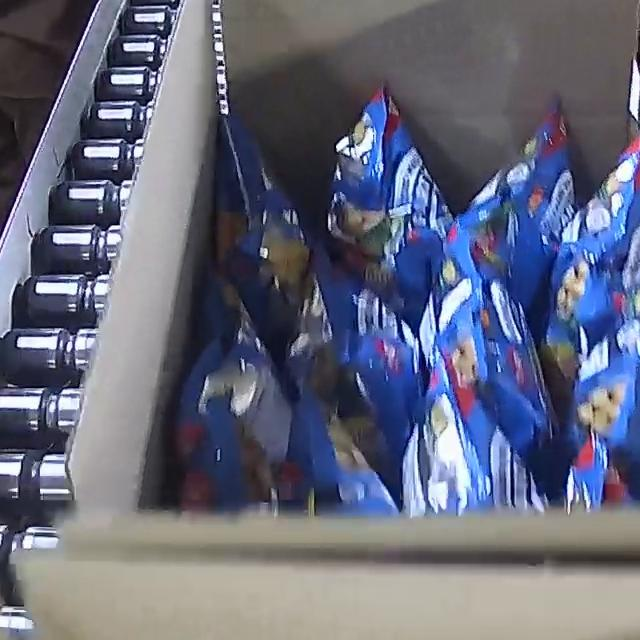paprika: (172, 80, 640, 517)
